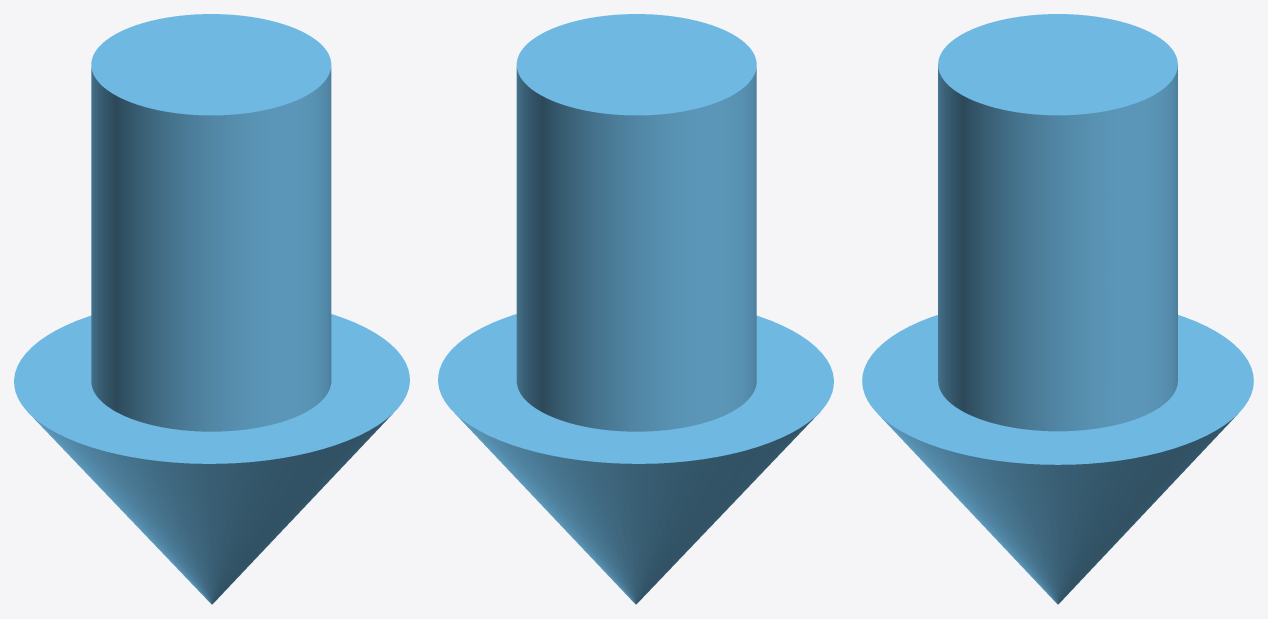
3 renders of one model, left to right at view 1: azimuth 30°, elevation 25°; view 2: azimuth 150°, elevation 25°; view 3: azimuth 270°, elevation 25°, orthographic.
Visible parts, largest first — view 1: root (×2); view 2: root (×2); view 3: root (×2).
Boxes of the visible parts, box(x1,y1,x2,y2) form: root (×2): box(14, 14, 409, 604); root (×2): box(438, 14, 833, 604); root (×2): box(862, 14, 1253, 604).
Bounding box in the file's own units: 0.1496 × 0.2246 × 0.1477.
